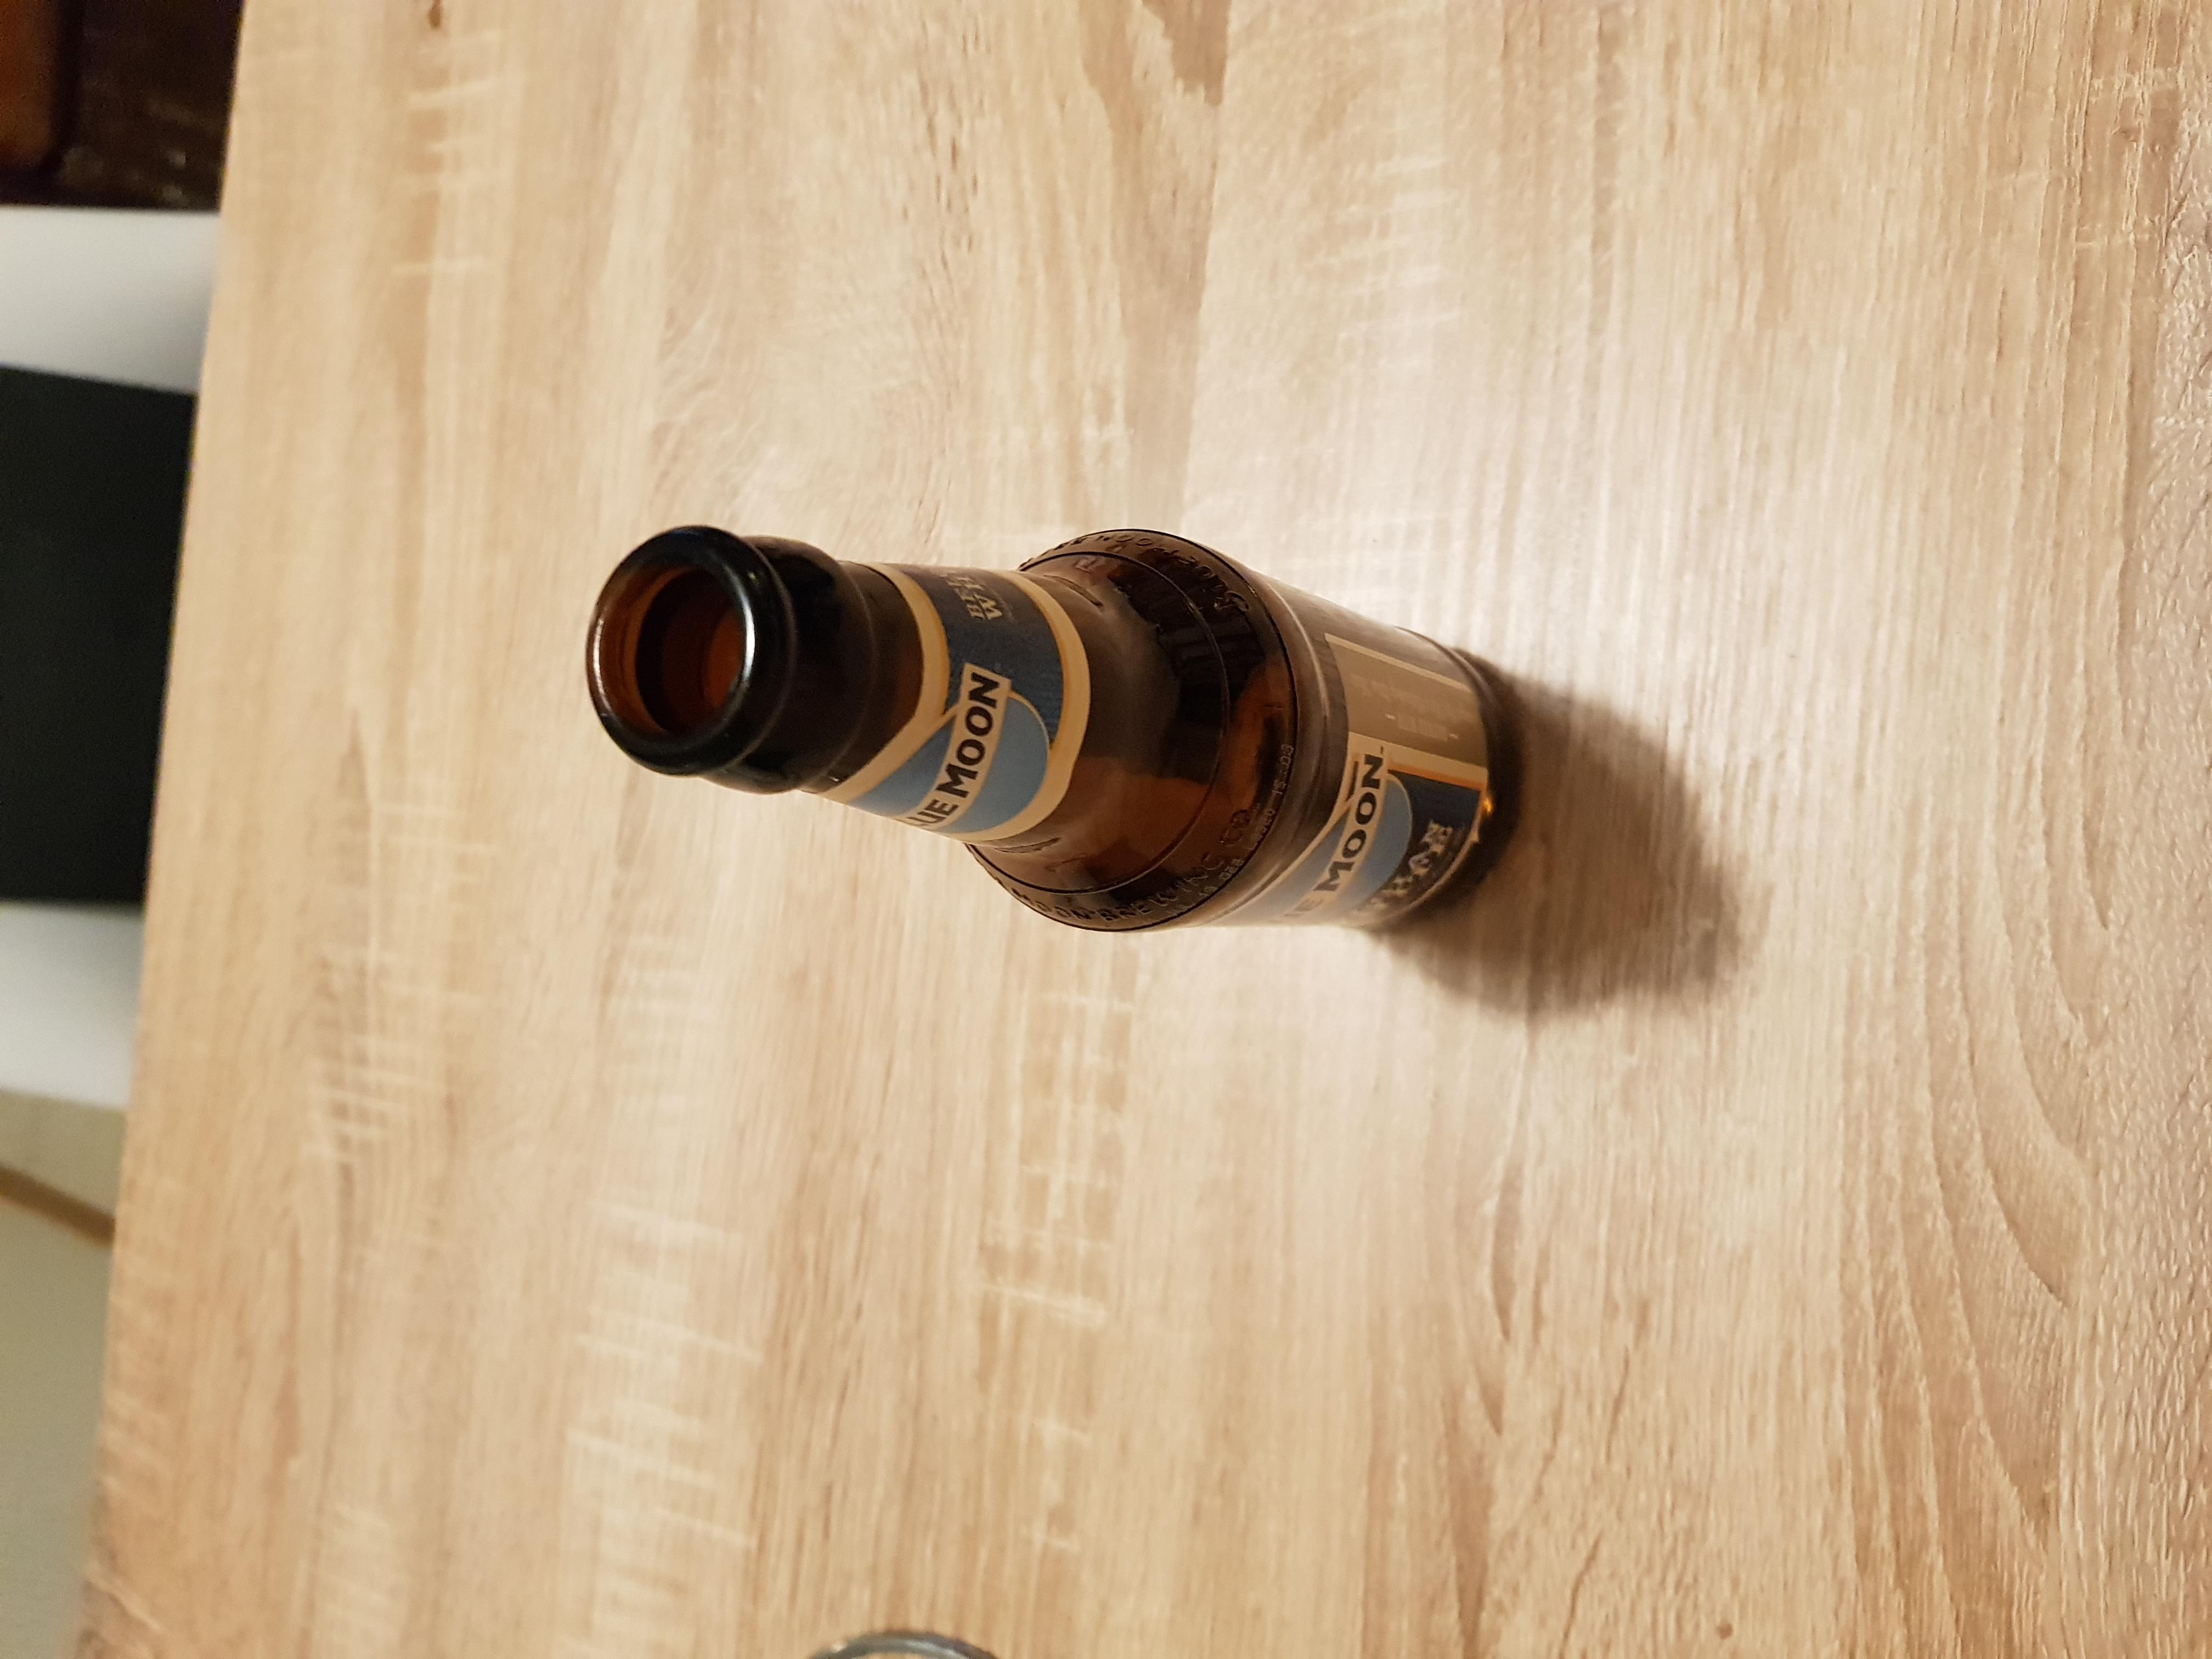bottle: (582, 500, 1517, 941)
